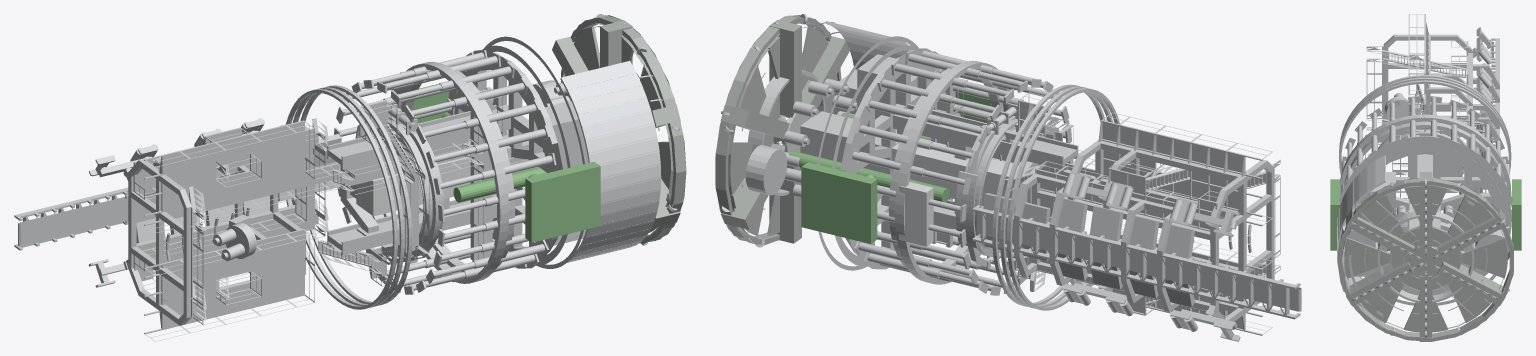
The model's file is gripper.glb.
3 renders of one model, left to right at view 1: azimuth 30°, elevation 25°; view 2: azimuth 150°, elevation 25°; view 3: azimuth 270°, elevation 25°, orthographic. The views are drawn at different scales.
Visible parts, largest first — view 1: MachineStructure, TypeKit/Gripper/RoofShield, RockKit/Cutterhead, TypeKit/Gripper/GripperShoes, TypeKit/Gripper/MainBeam, Railings, TypeKit/Gripper/ThrustJacks; view 2: MachineStructure, RockKit/Cutterhead, TypeKit/Gripper/GripperShoes, TypeKit/Gripper/MainBeam, TypeKit/Gripper/SupportLeg, TypeKit/Gripper/RoofShield, TypeKit/Gripper/ThrustJacks, Stairs, ServiceTanks; view 3: MachineStructure, RockKit/Cutterhead, TypeKit/Gripper/RoofShield, TypeKit/Gripper/GripperShoes, RockKit/DiscCutters, Stairs.
Boxes of the visible parts, x1=… form: MachineStructure: x1=14, y1=36, x2=668, y2=334; TypeKit/Gripper/RoofShield: x1=560, y1=61, x2=661, y2=262; RockKit/Cutterhead: x1=552, y1=15, x2=686, y2=243; TypeKit/Gripper/GripperShoes: x1=412, y1=84, x2=600, y2=242; TypeKit/Gripper/MainBeam: x1=356, y1=141, x2=511, y2=216; Railings: x1=145, y1=229, x2=314, y2=341; TypeKit/Gripper/ThrustJacks: x1=453, y1=129, x2=546, y2=202; MachineStructure: x1=739, y1=22, x2=1301, y2=341; RockKit/Cutterhead: x1=715, y1=15, x2=849, y2=245; TypeKit/Gripper/GripperShoes: x1=801, y1=92, x2=991, y2=243; TypeKit/Gripper/MainBeam: x1=800, y1=115, x2=1034, y2=205; TypeKit/Gripper/SupportLeg: x1=899, y1=182, x2=933, y2=246; TypeKit/Gripper/RoofShield: x1=825, y1=21, x2=908, y2=207; TypeKit/Gripper/ThrustJacks: x1=788, y1=113, x2=949, y2=202; Stairs: x1=1146, y1=168, x2=1266, y2=304; ServiceTanks: x1=1062, y1=286, x2=1197, y2=331; MachineStructure: x1=1339, y1=14, x2=1512, y2=318; RockKit/Cutterhead: x1=1337, y1=172, x2=1513, y2=341; TypeKit/Gripper/RoofShield: x1=1337, y1=155, x2=1385, y2=323; TypeKit/Gripper/GripperShoes: x1=1330, y1=179, x2=1521, y2=250; RockKit/DiscCutters: x1=1342, y1=179, x2=1509, y2=337; Stairs: x1=1382, y1=50, x2=1465, y2=124.
Bounding box in the file's own units: 28.88 × 10.45 × 10.99.
